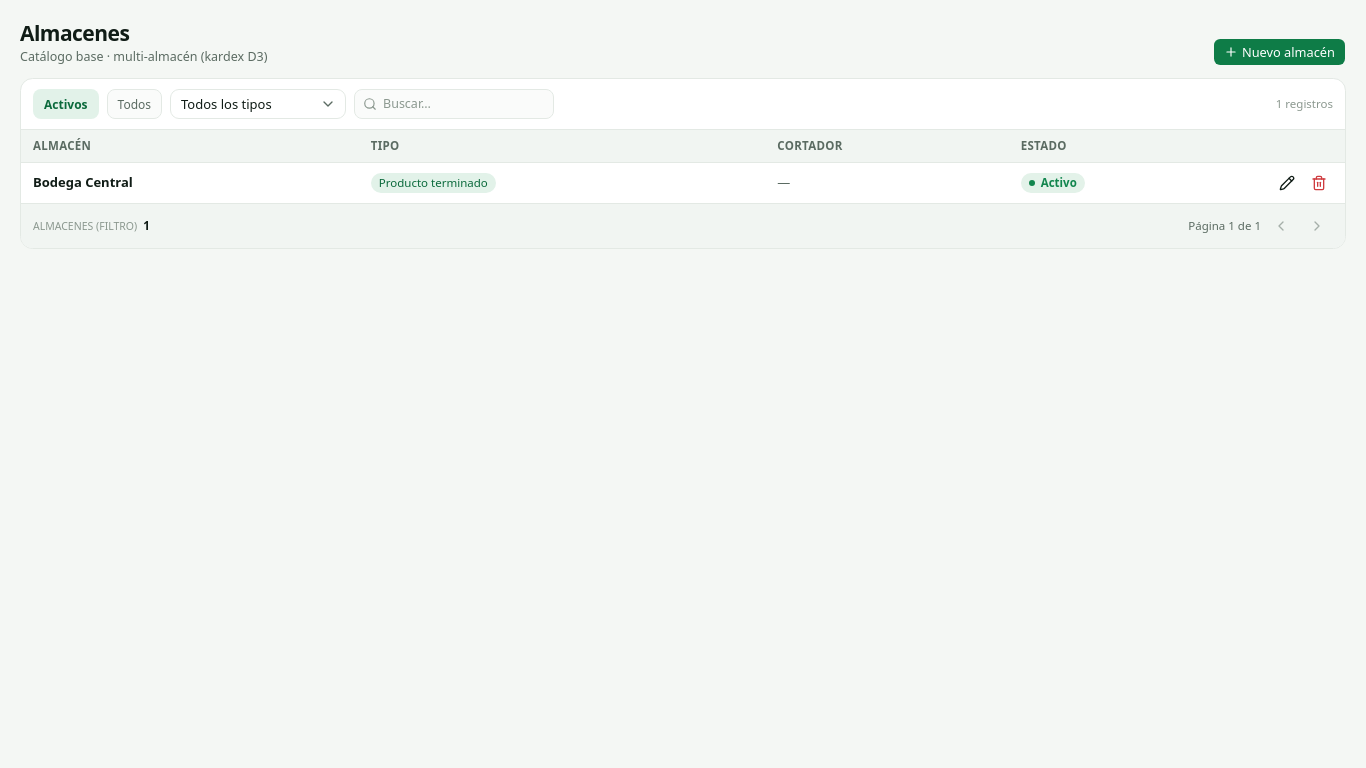
it: <AlmacenesPagina> › muestra el boton "Nuevo almacén" y abre el dialogo de alta con permiso de administrar
Click the button with test id "nuevo-almacen" at (1279, 52), box [1213,38,1346,66]
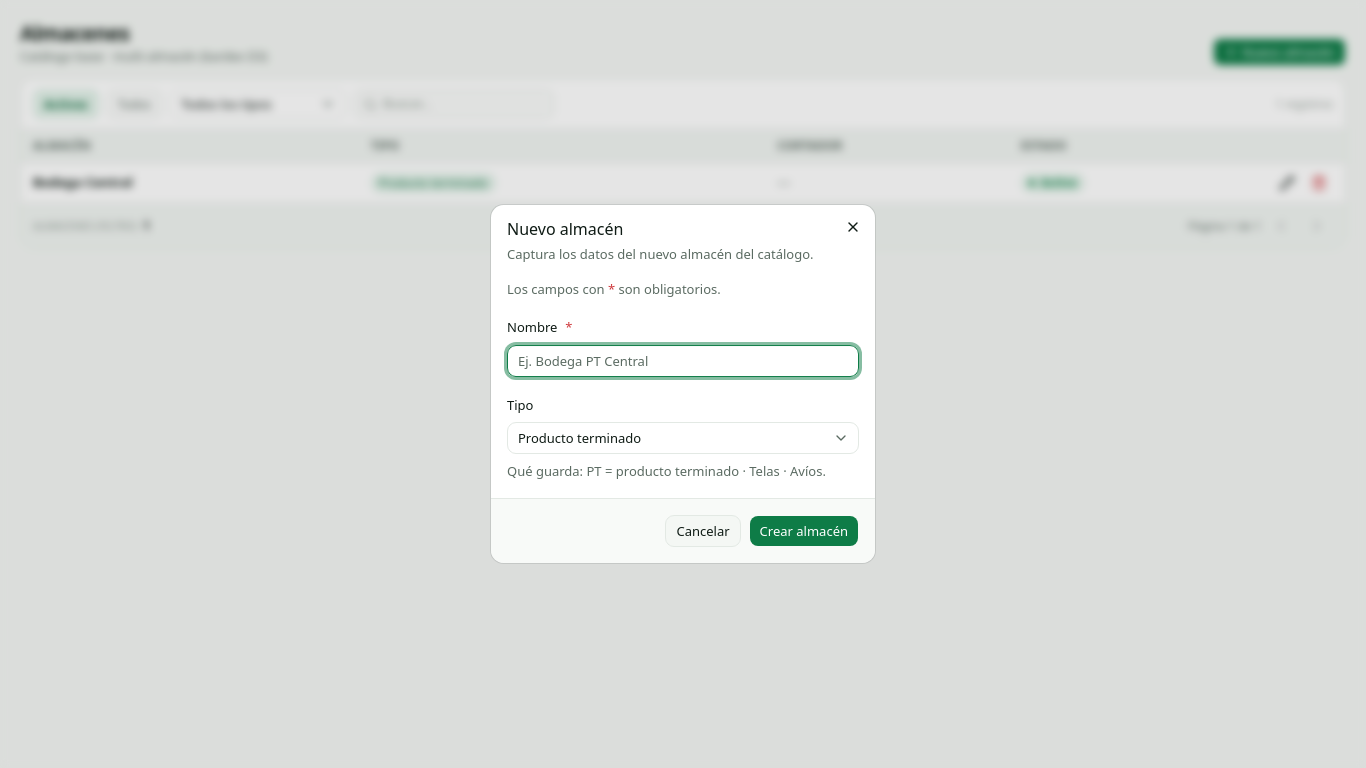
Check: the heading "Nuevo almacén" is shown, box [507,218,623,240]
Check: the field labelled "Nombre *" is shown, box [507,345,859,377]
